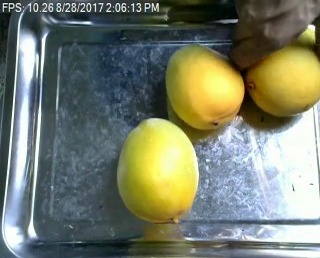Mango: (116, 117, 201, 221), (163, 42, 245, 130), (247, 26, 320, 118)
